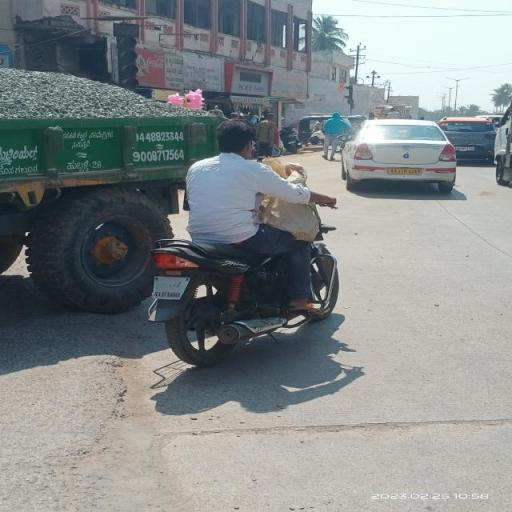bike: (145, 116, 343, 366)
numberplate: (154, 276, 186, 299)
withouthelmet: (216, 122, 256, 156)
